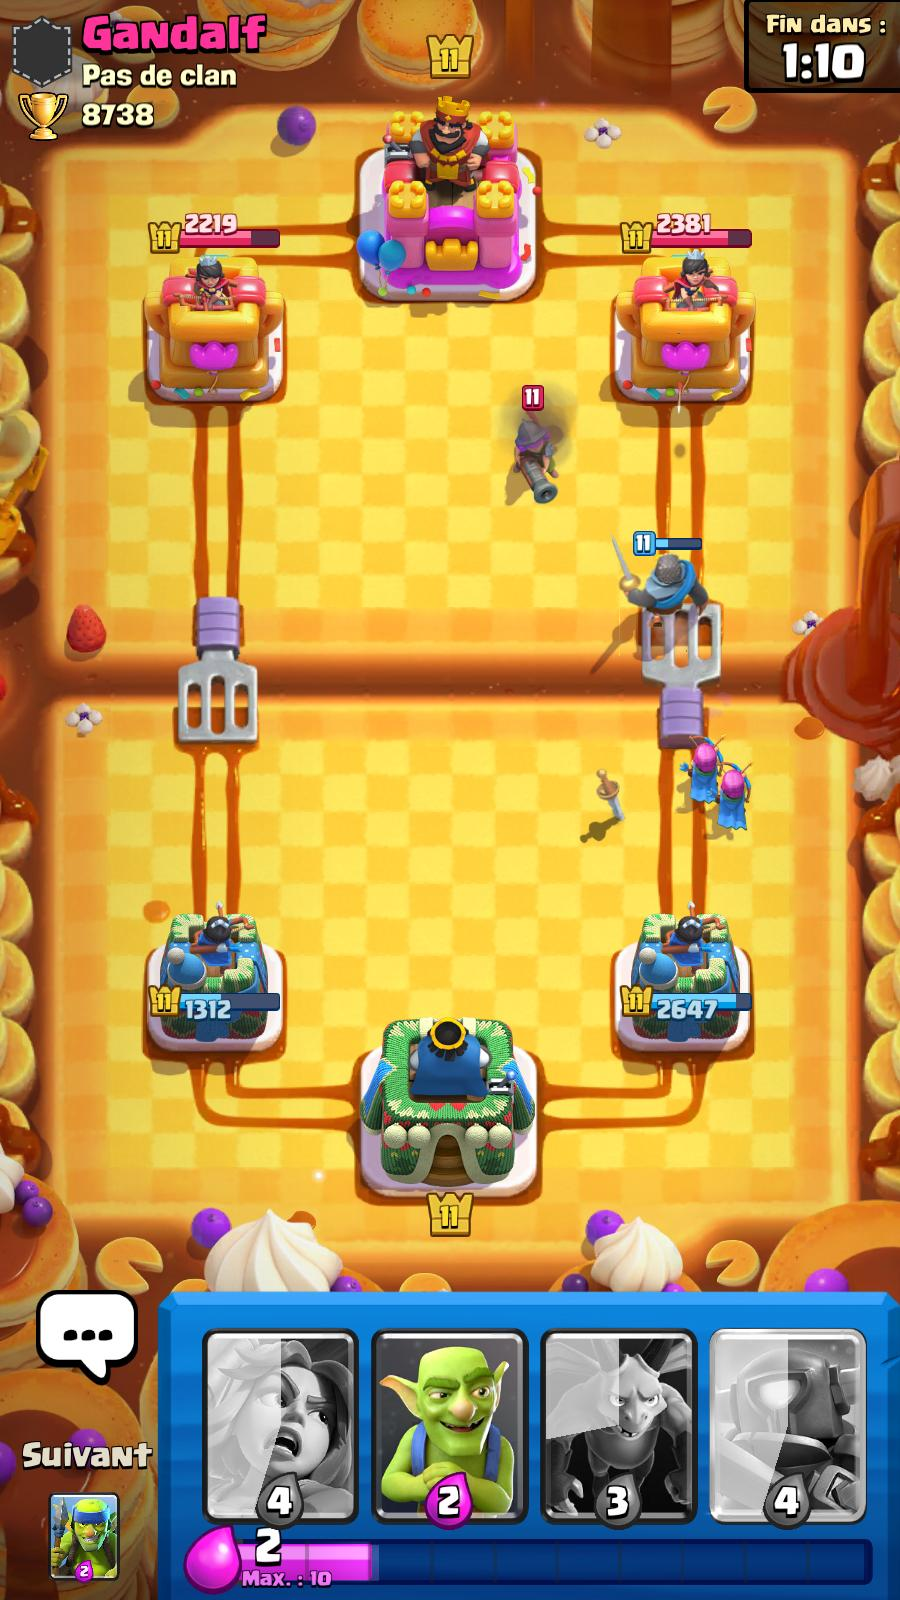archere: (714, 755, 769, 841), (680, 726, 733, 809)
chevalier: (601, 526, 725, 640)
mousquetaire: (497, 392, 574, 514)
